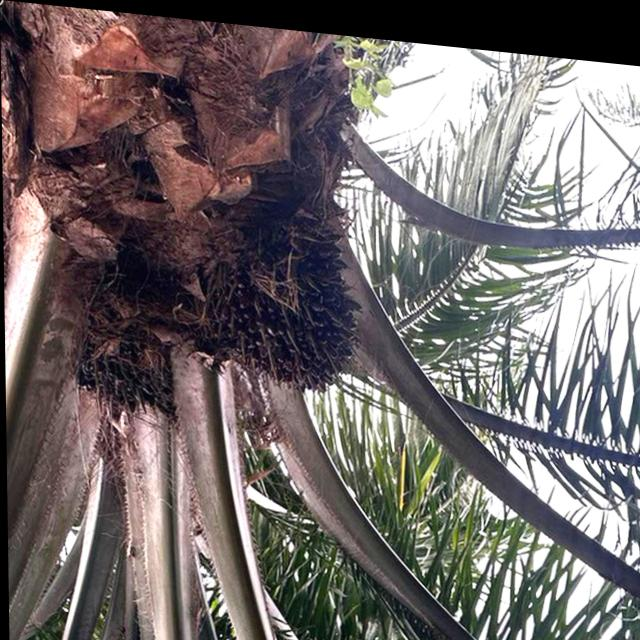ripe: (190, 188, 378, 408)
